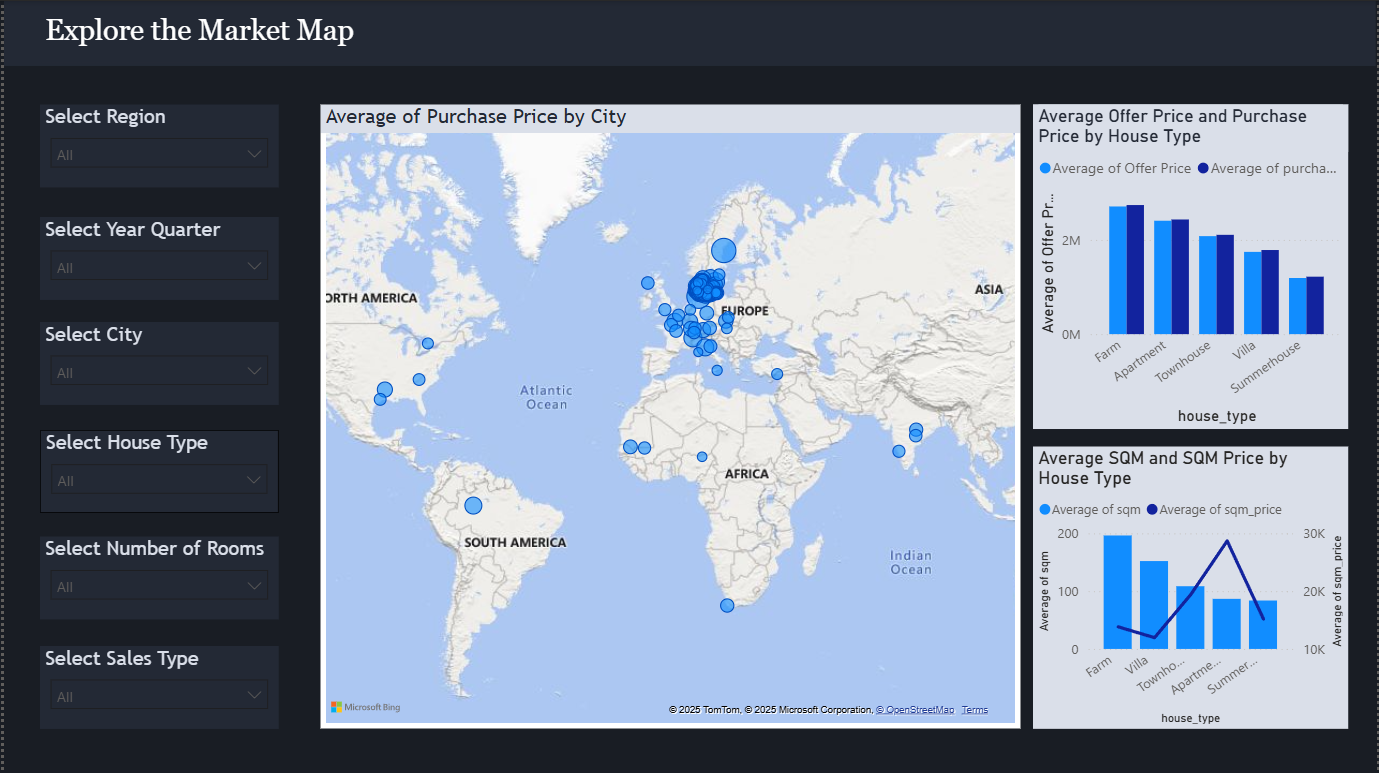

Layout of this report page (visuals, bound fields, positions):
{"tool":"powerbi","page":{"name":"Market Map","canvas":[1280,720],"ordinal":2},"visuals":[{"type":"clusteredColumnChart","title":"Average Offer Price and Purchase Price by House Type","fields":{"Category":["Housing Data.house_type"],"Y":["Avg(Housing Data.Offer Price)","Avg(Housing Data.purchase_price)"]},"box":[960,96.9,293.8,302.8],"z":0},{"type":"map","title":"Average of Purchase Price by City","fields":{"Category":["Housing Data.city"],"Size":["Avg(Housing Data.purchase_price)"]},"box":[295.3,96.9,652.6,581.5],"z":1000},{"type":"lineStackedColumnComboChart","title":"Average SQM and SQM Price by House Type","fields":{"Category":["Housing Data.house_type"],"Y2":["Avg(Housing Data.sqm_price)"],"Y":["Avg(Housing Data.sqm)"]},"box":[960,414.9,293.8,263.5],"z":2000},{"type":"shape","box":[0,0,1279.5,60.6],"z":3000},{"type":"slicer","title":"Select Region","fields":{"Values":["Housing Data.region"]},"box":[33.3,96.9,222.6,77.2],"z":4000},{"type":"slicer","title":"Select Year Quarter","fields":{"Values":["Housing Data.quarter"]},"box":[33.3,201.4,222.6,77.2],"z":5000},{"type":"slicer","title":"Select City","fields":{"Values":["Housing Data.city"]},"box":[33.3,299.8,222.6,77.2],"z":6000},{"type":"slicer","title":"Select House Type","fields":{"Values":["Housing Data.house_type"]},"box":[33.3,399.8,222.6,77.2],"z":7000},{"type":"slicer","title":"Select Number of Rooms","fields":{"Values":["Housing Data.no_rooms"]},"box":[33.3,499.7,222.6,77.2],"z":8000},{"type":"slicer","title":"Select Sales Type","fields":{"Values":["Housing Data.sales_type"]},"box":[33.3,601.1,222.6,77.2],"z":9000},{"type":"textbox","box":[33.3,0,405.8,57.5],"z":10000}]}

Visuals, with their boxes in screenshot pixels (x1, y1, x2, y2), scaled from the page's 1280x720 canvas onto the 1379x773 screenshot:
"Average Offer Price and Purchase Price by House Type" clusteredColumnChart: (x1=1034, y1=104, x2=1351, y2=429)
"Average of Purchase Price by City" map: (x1=318, y1=104, x2=1021, y2=728)
"Average SQM and SQM Price by House Type" lineStackedColumnComboChart: (x1=1034, y1=445, x2=1351, y2=728)
shape: (x1=0, y1=0, x2=1378, y2=65)
"Select Region" slicer: (x1=36, y1=104, x2=276, y2=187)
"Select Year Quarter" slicer: (x1=36, y1=216, x2=276, y2=299)
"Select City" slicer: (x1=36, y1=322, x2=276, y2=405)
"Select House Type" slicer: (x1=36, y1=429, x2=276, y2=512)
"Select Number of Rooms" slicer: (x1=36, y1=536, x2=276, y2=619)
"Select Sales Type" slicer: (x1=36, y1=645, x2=276, y2=728)
textbox: (x1=36, y1=0, x2=473, y2=62)
